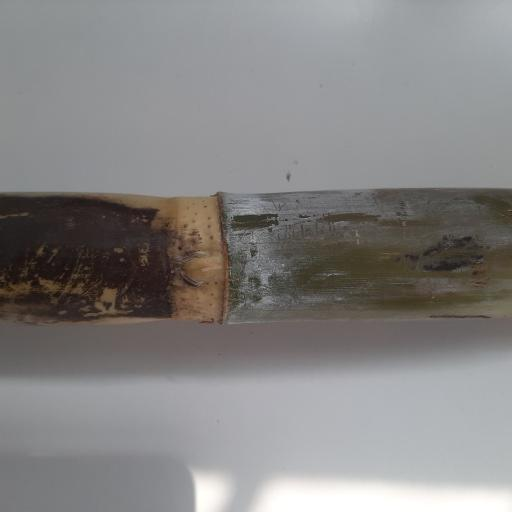Bud: (177, 254, 210, 286)
